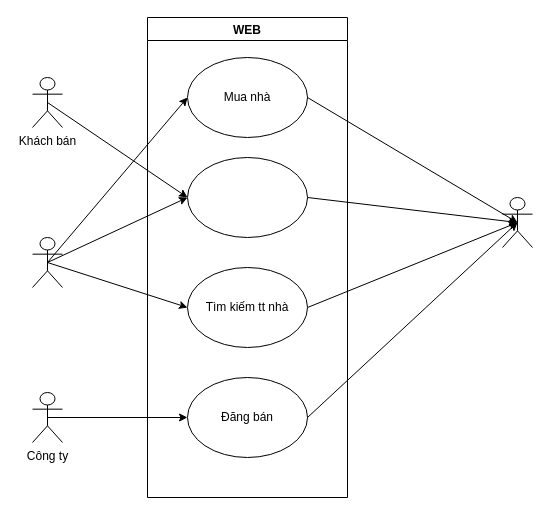
This 560x515 diagram has some shape labels left out. Here are the shapes that lost their labels. From the top down, the centre of each, then its label:
the point at 247,197: cung cấp tt nhà
the point at 517,222: Database
the point at 47,262: Khách mua
